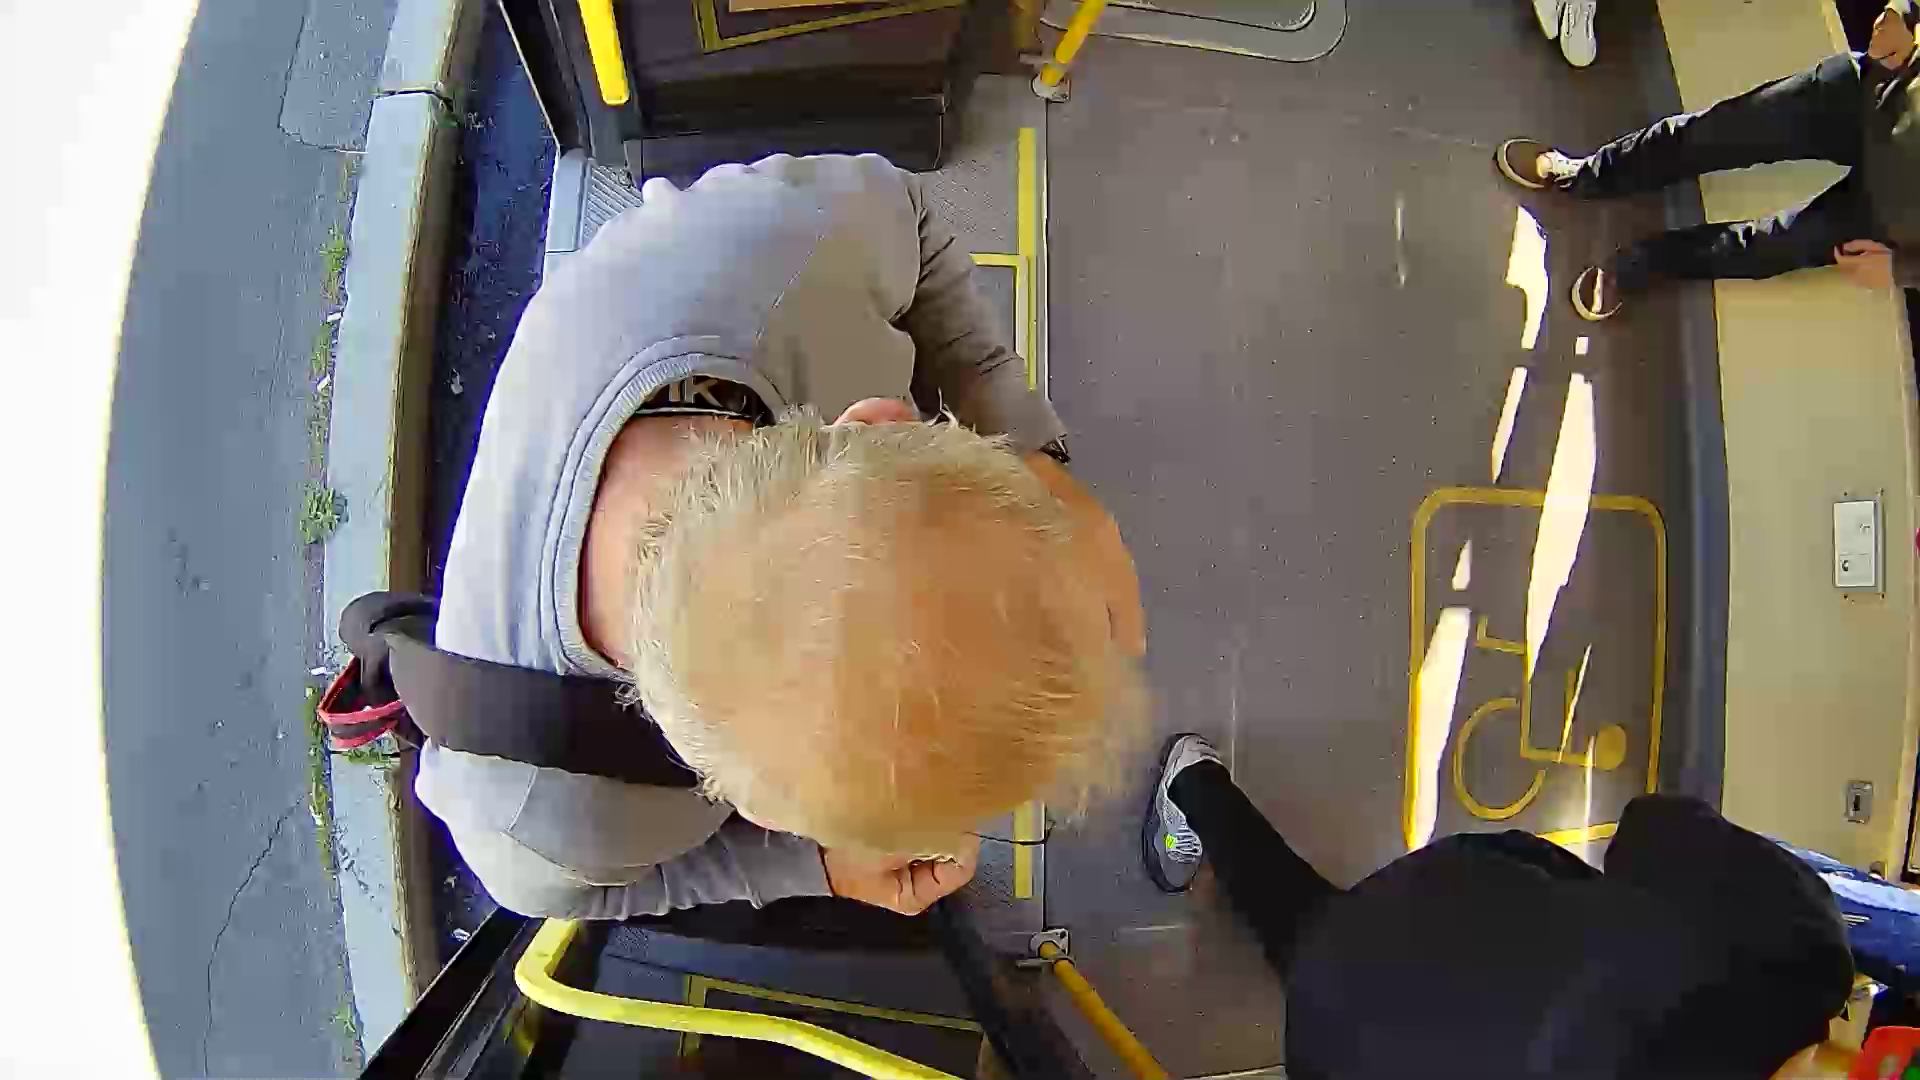person: (409, 174, 1206, 894)
